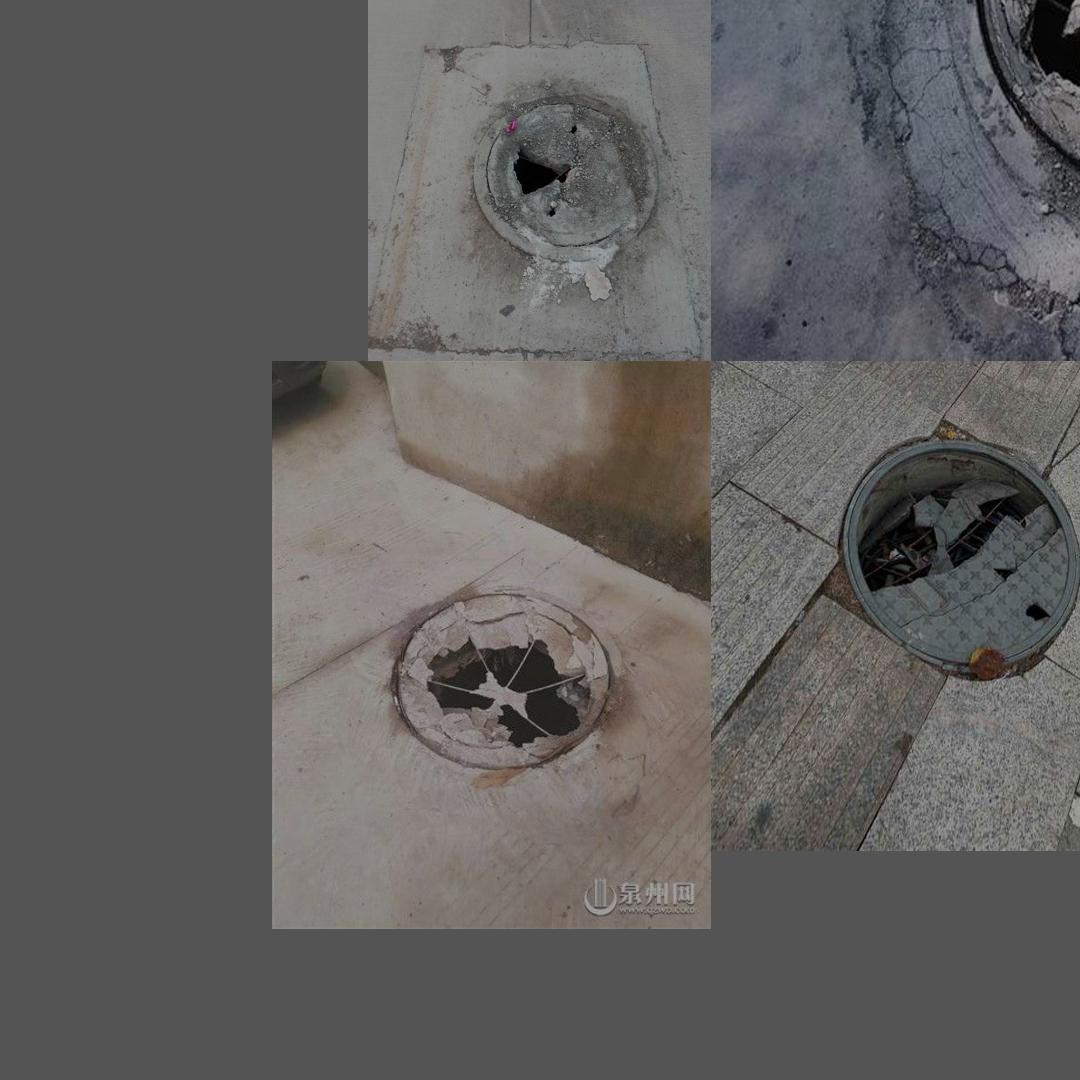broke: (844, 0, 1080, 304), (836, 431, 1080, 685), (376, 573, 637, 787), (473, 96, 659, 260)
